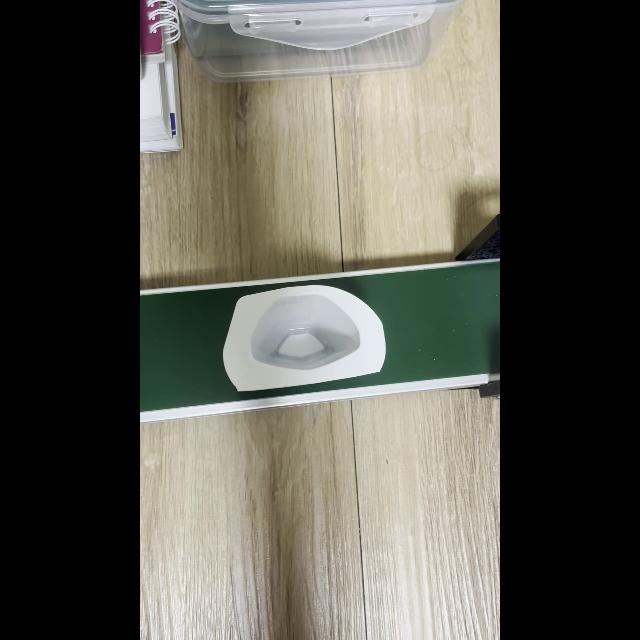clean: (228, 294, 374, 384)
